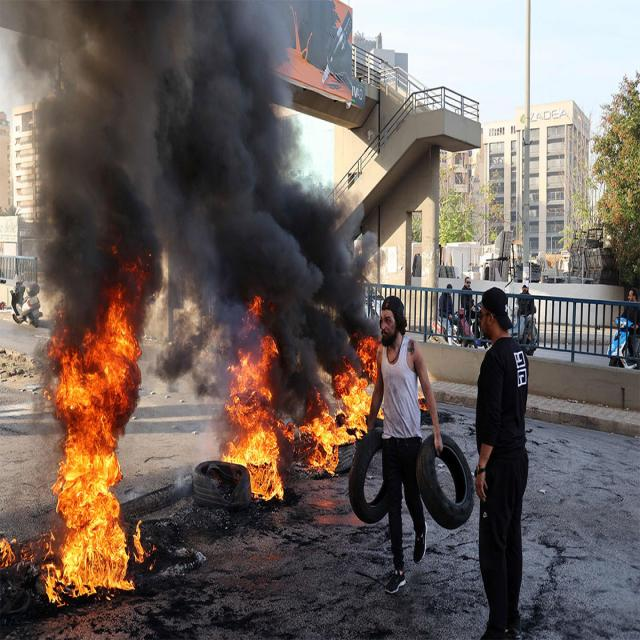fire: (41, 286, 147, 603), (220, 295, 284, 501), (298, 409, 354, 479), (336, 368, 371, 434)
